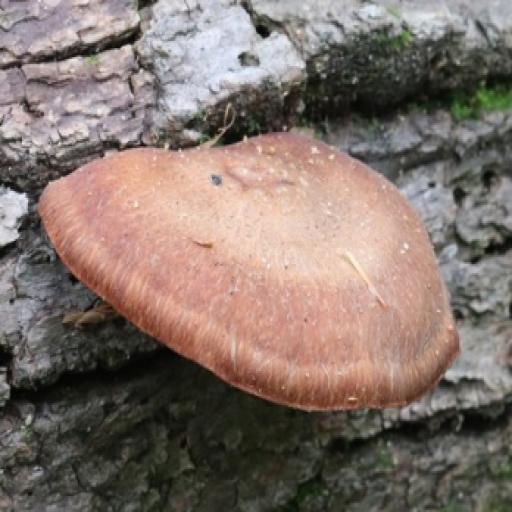Shiitake Mushroom: (38, 55, 490, 450)
